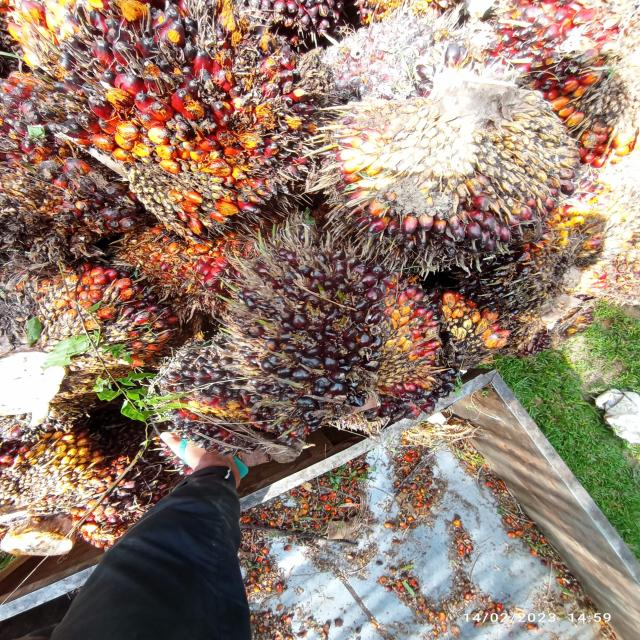fraksi 00: (207, 209, 442, 447), (121, 323, 327, 468)
fraksi 3: (40, 23, 336, 244)
